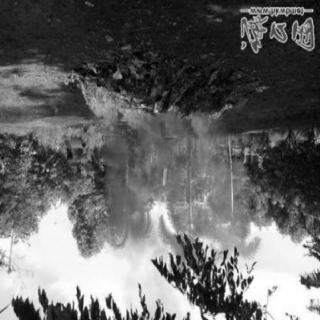Fire: (52, 72, 252, 188)
